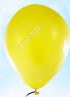Balloon: (6, 5, 70, 89)
